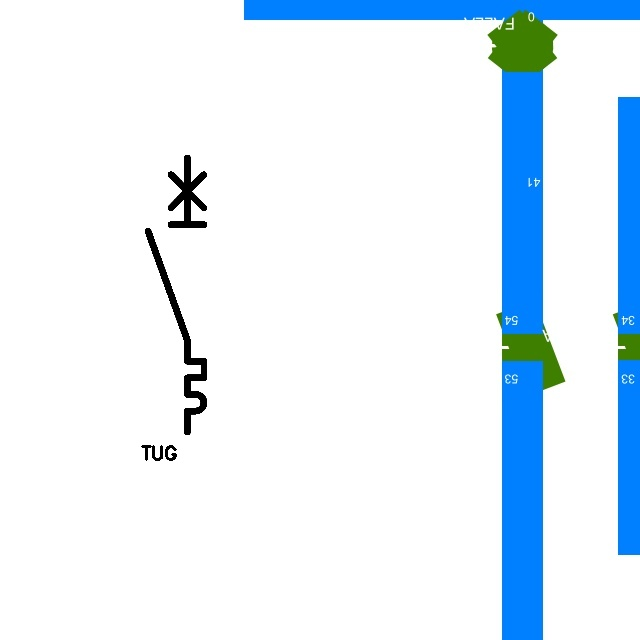interruptor_termomagnetico: (141, 151, 211, 439)
